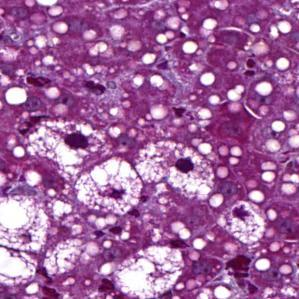ballooning: (128, 136, 220, 208), (109, 234, 185, 299), (72, 153, 145, 220), (26, 117, 108, 169)
